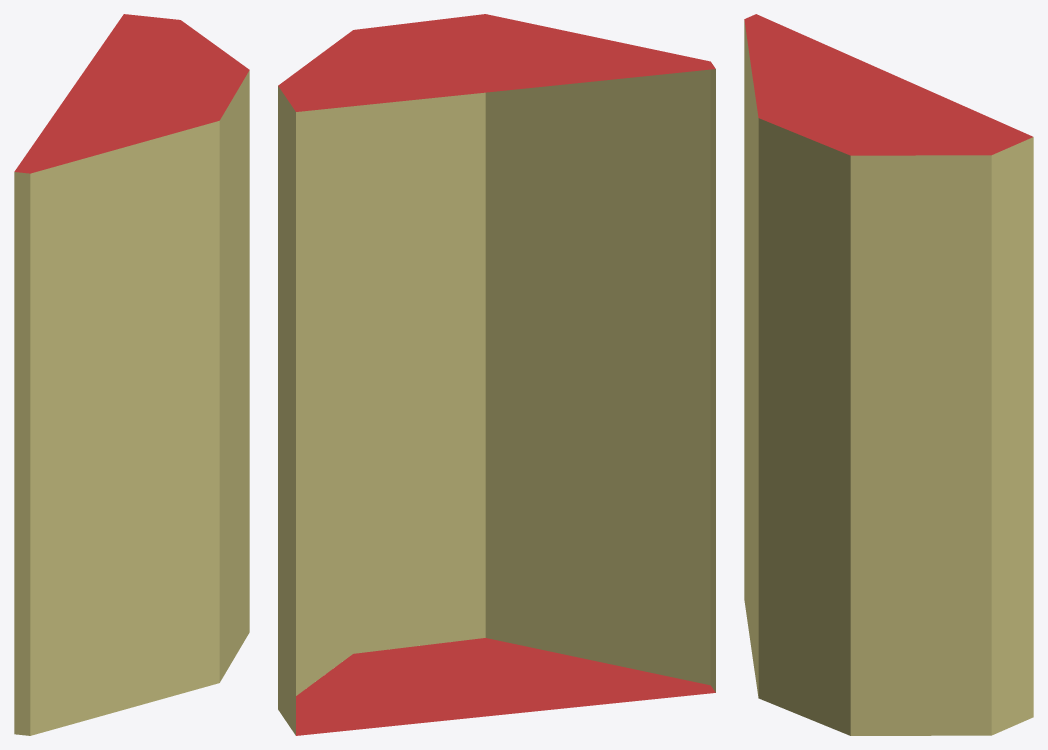
3 views of the same model, side by side, from view 1: azimuth 30°, elevation 25°; view 2: azimuth 150°, elevation 25°; view 3: azimuth 270°, elevation 25° (orthographic). The views are drawn at different scales.
Visible parts, largest first — view 1: group_4, group_3; view 2: group_4, group_3, group_5; view 3: group_4, group_3.
Boxes of the visible parts, left/top/right/bottom form: group_4: left=14, top=70, right=249, bottom=735; group_3: left=14, top=14, right=249, bottom=173; group_4: left=278, top=69, right=715, bottom=735; group_3: left=278, top=14, right=715, bottom=111; group_5: left=296, top=638, right=715, bottom=735; group_4: left=744, top=20, right=1033, bottom=735; group_3: left=744, top=14, right=1032, bottom=155.
Bounding box in the file's own units: 4.48 × 3.87 × 8.56.
